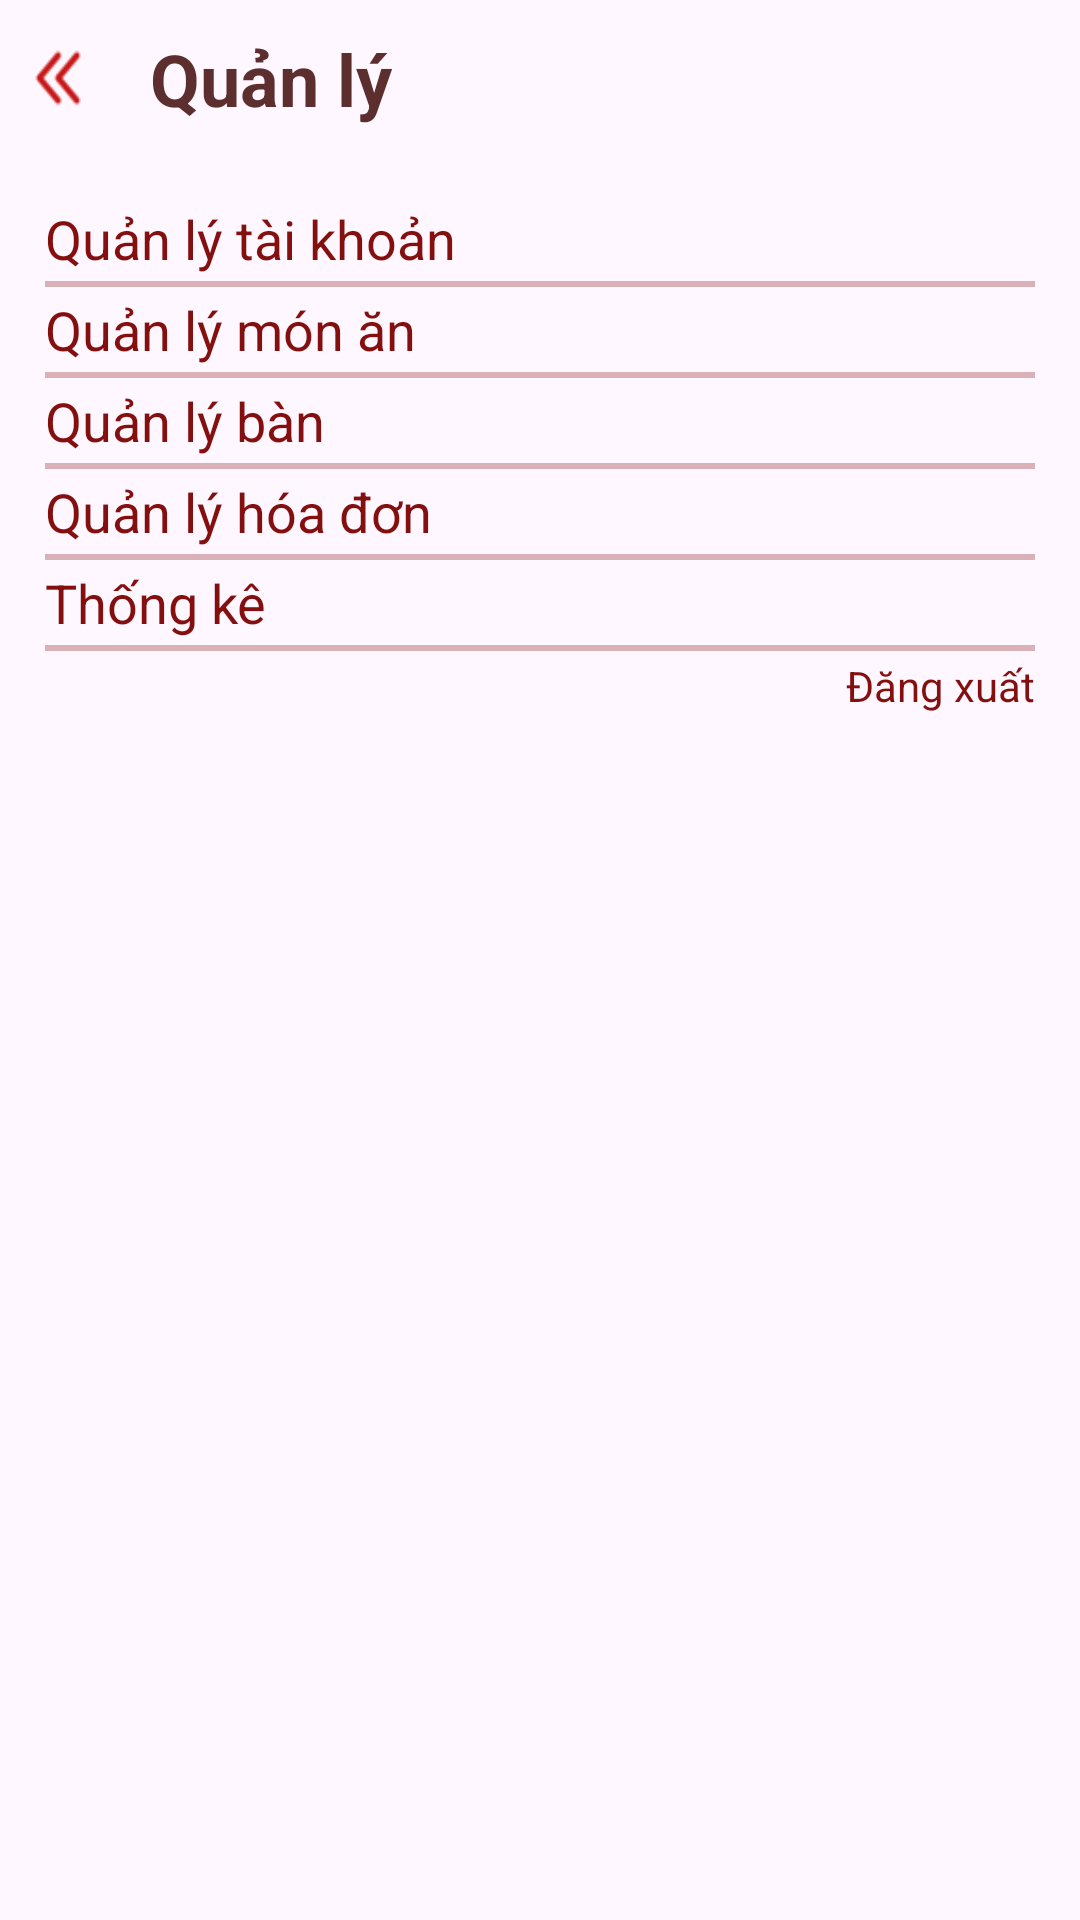

Where icons sit on this 1080px x 1920px app screen, as (x1, y1, x2, y2):
back: (35, 51, 81, 105)
